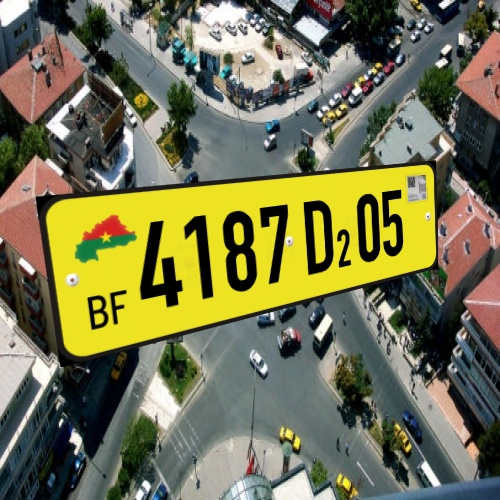plate: (21, 152, 457, 369)
